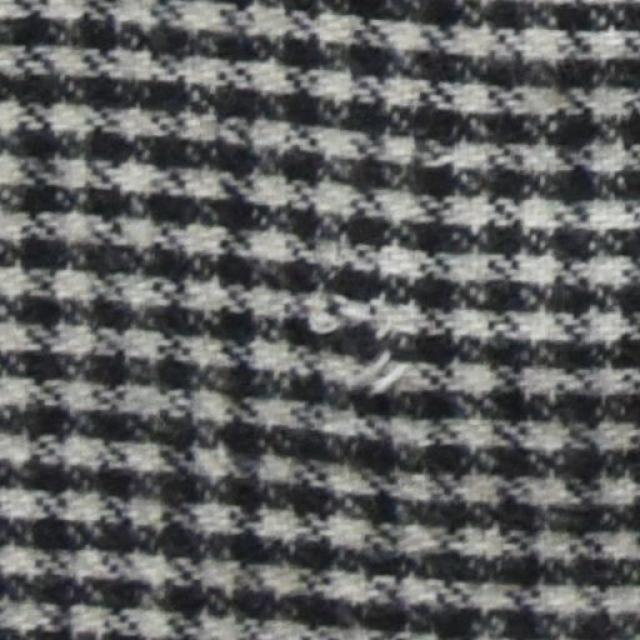Snag: (345, 321, 405, 420)
